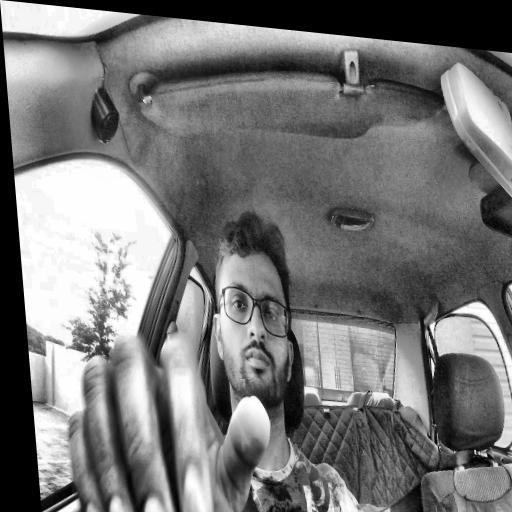awake: (203, 207, 300, 412)
